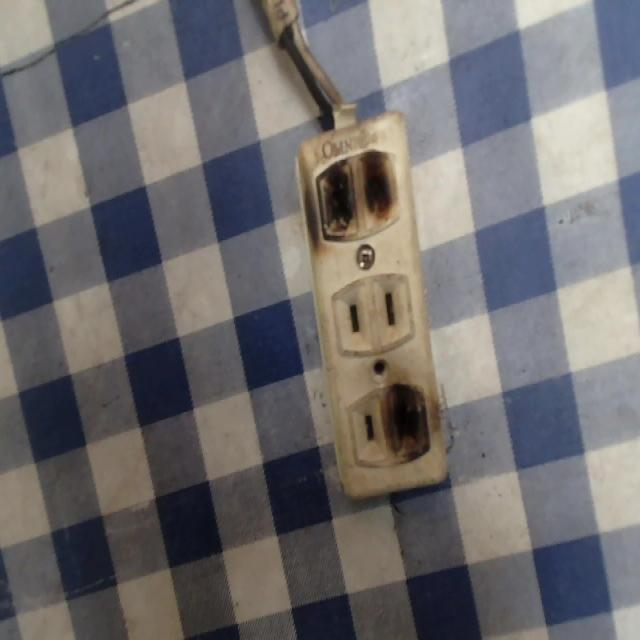-: (296, 145, 403, 240), (380, 383, 442, 465)
